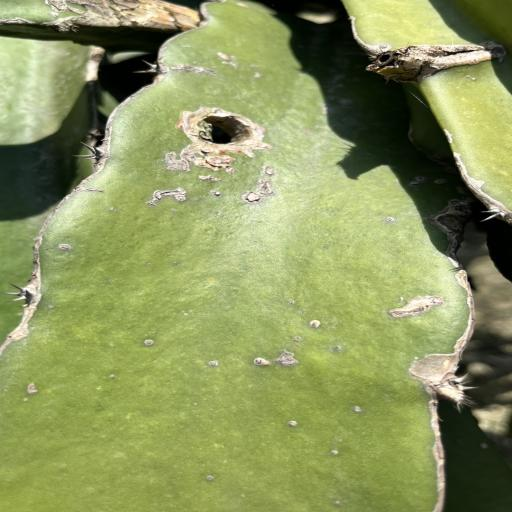stemcanker: (139, 310, 359, 386), (259, 399, 374, 471), (21, 366, 126, 414), (50, 237, 98, 268), (44, 299, 76, 329), (364, 212, 405, 235), (196, 466, 228, 487), (280, 294, 310, 312), (100, 199, 124, 217), (455, 71, 482, 84), (24, 382, 43, 396), (206, 188, 225, 202), (350, 405, 368, 414), (351, 405, 365, 416), (379, 39, 390, 51), (328, 448, 342, 457), (330, 500, 344, 508), (20, 397, 30, 403)
